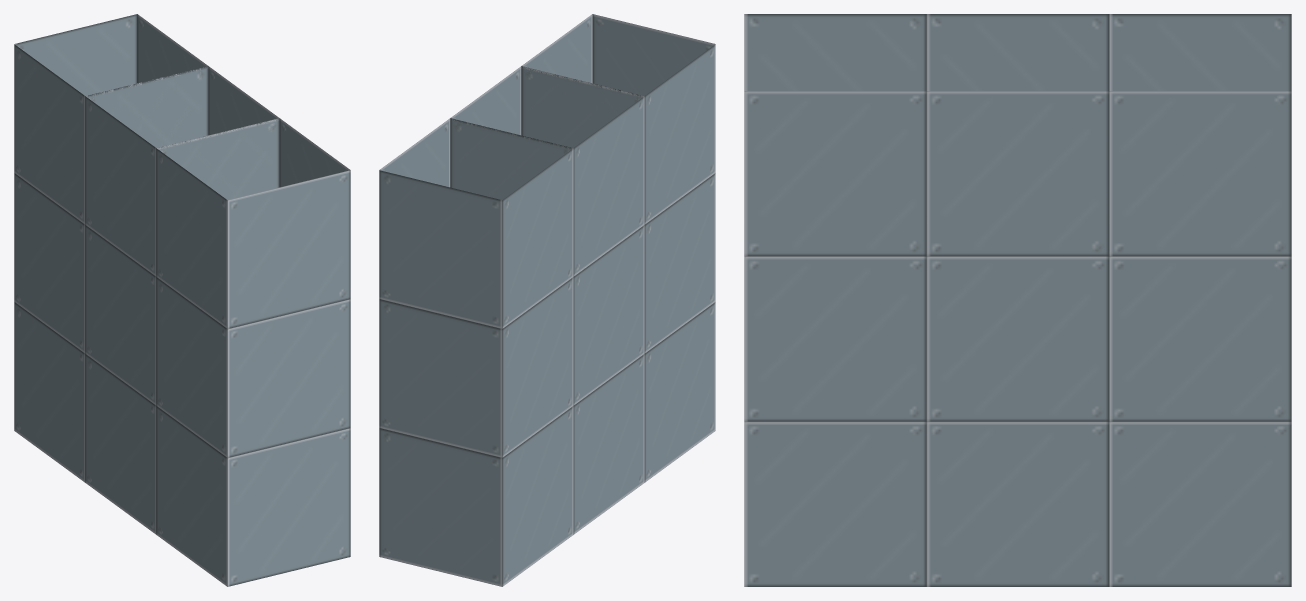
The model's file is level_zone01_basic-3-3.fbx.
3 renders of one model, left to right at view 1: azimuth 30°, elevation 25°; view 2: azimuth 150°, elevation 25°; view 3: azimuth 270°, elevation 25°, orthographic. The views are drawn at different scales.
Visible parts, largest first — view 1: level_zone01_basic-3-3; view 2: level_zone01_basic-3-3; view 3: level_zone01_basic-3-3.
Part boxes in pixels (left/top/right/bottom): level_zone01_basic-3-3: left=14, top=14, right=350, bottom=586; level_zone01_basic-3-3: left=379, top=14, right=715, bottom=586; level_zone01_basic-3-3: left=744, top=14, right=1291, bottom=586.
Bounding box in the file's own units: 100 × 300 × 300.
